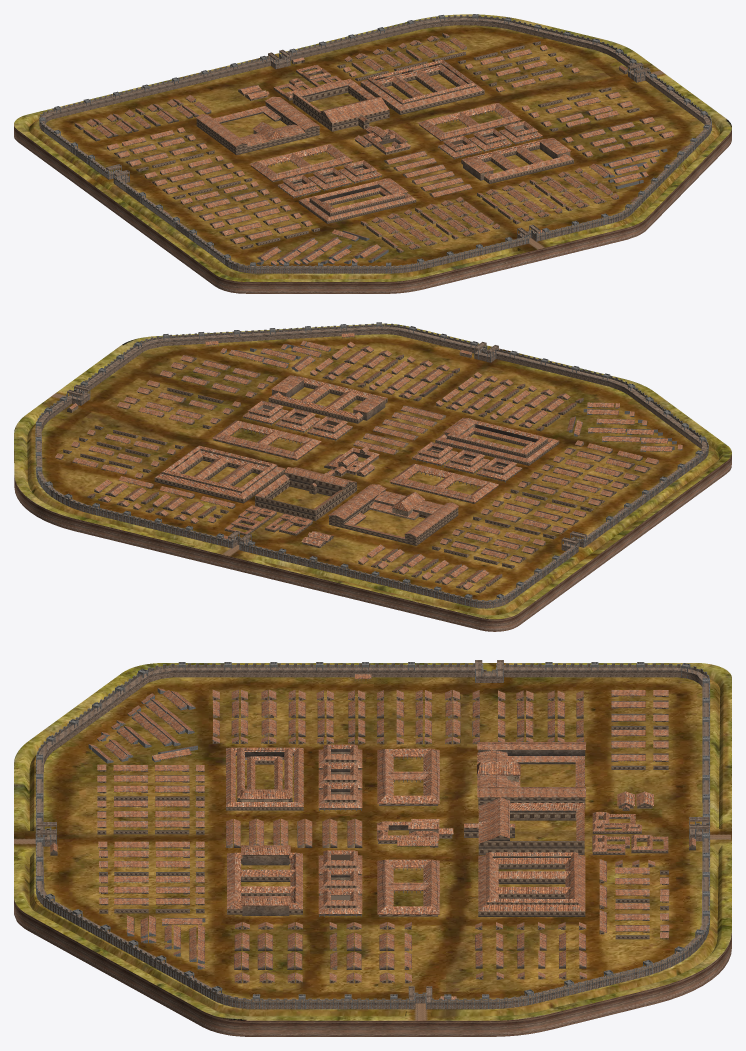
File: oberaden.glb
3 views of the same model, one above another, from view 1: azimuth 30°, elevation 25°; view 2: azimuth 150°, elevation 25°; view 3: azimuth 270°, elevation 25° (orthographic). The views are drawn at different scales.
Visible parts, largest first — view 1: Terrain, Dach, Putz, Holz, WoodTiles, Soil; view 2: Terrain, Dach, Putz, Holz, WoodTiles, Soil; view 3: Terrain, Dach, Putz, WoodTiles, Holz, Soil.
Boxes of the visible parts, x1=… form: Terrain: x1=14, y1=14, x2=731, y2=281; Dach: x1=75, y1=33, x2=686, y2=264; Putz: x1=40, y1=15, x2=711, y2=268; Holz: x1=39, y1=14, x2=711, y2=273; WoodTiles: x1=39, y1=18, x2=711, y2=273; Soil: x1=14, y1=126, x2=731, y2=293; Terrain: x1=14, y1=323, x2=731, y2=619; Dach: x1=55, y1=333, x2=682, y2=590; Putz: x1=37, y1=324, x2=708, y2=603; Holz: x1=35, y1=322, x2=708, y2=607; WoodTiles: x1=36, y1=326, x2=708, y2=608; Soil: x1=14, y1=450, x2=731, y2=631; Terrain: x1=14, y1=663, x2=731, y2=1020; Dach: x1=50, y1=674, x2=695, y2=999; Putz: x1=35, y1=664, x2=709, y2=1002; WoodTiles: x1=36, y1=660, x2=709, y2=1009; Holz: x1=35, y1=660, x2=710, y2=1008; Soil: x1=14, y1=899, x2=731, y2=1036.
Bounding box in the file's own units: 2.41 × 0.1129 × 2.04.
7 materials, 7 textured.
